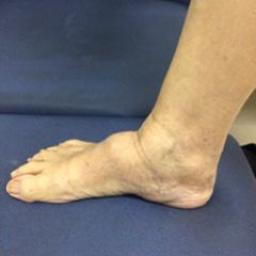Medial View -Right Foot-: (2, 81, 238, 212)
